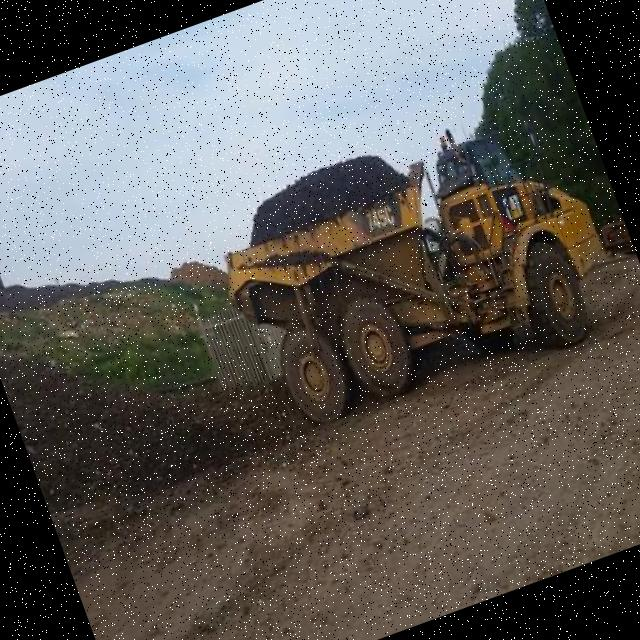Dump Truck: (195, 82, 636, 454), (0, 208, 32, 299)
